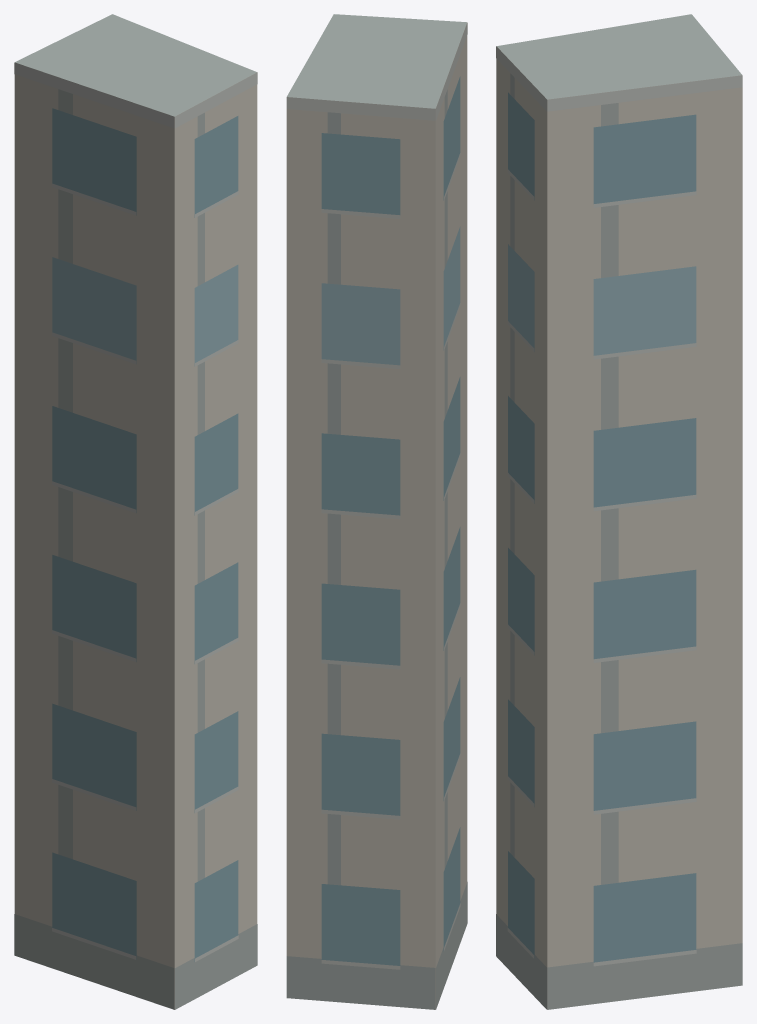
Rendered from survey-upis-32769168.glb.
3 views of the same model, side by side, from view 1: azimuth 30°, elevation 25°; view 2: azimuth 150°, elevation 25°; view 3: azimuth 270°, elevation 25° (orthographic).
Visible parts, largest first — view 1: survey-upis-32769168.tmp; view 2: survey-upis-32769168.tmp; view 3: survey-upis-32769168.tmp.
Boxes of the visible parts, box(x1,y1,x2,y2) form: survey-upis-32769168.tmp: box(14, 14, 257, 1009); survey-upis-32769168.tmp: box(286, 14, 467, 1009); survey-upis-32769168.tmp: box(496, 14, 742, 1009).
Bounding box in the file's own units: 3.7 × 18.3 × 4.5.
